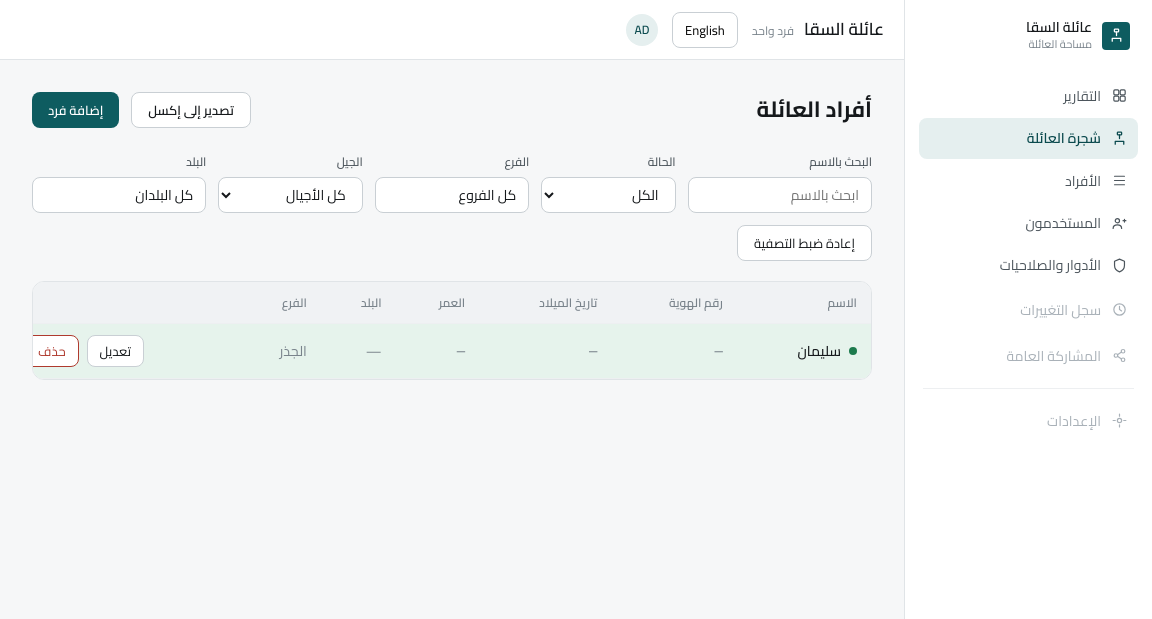
it: MembersPage › keeps the edit form open with the user input intact on a validation error
The width and height of the screenshot is (1152, 619).
Expected: the text "سليمان" is shown, [797, 340, 841, 363]
Click the button "تعديل": x=115, y=351 [87, 335, 144, 367]
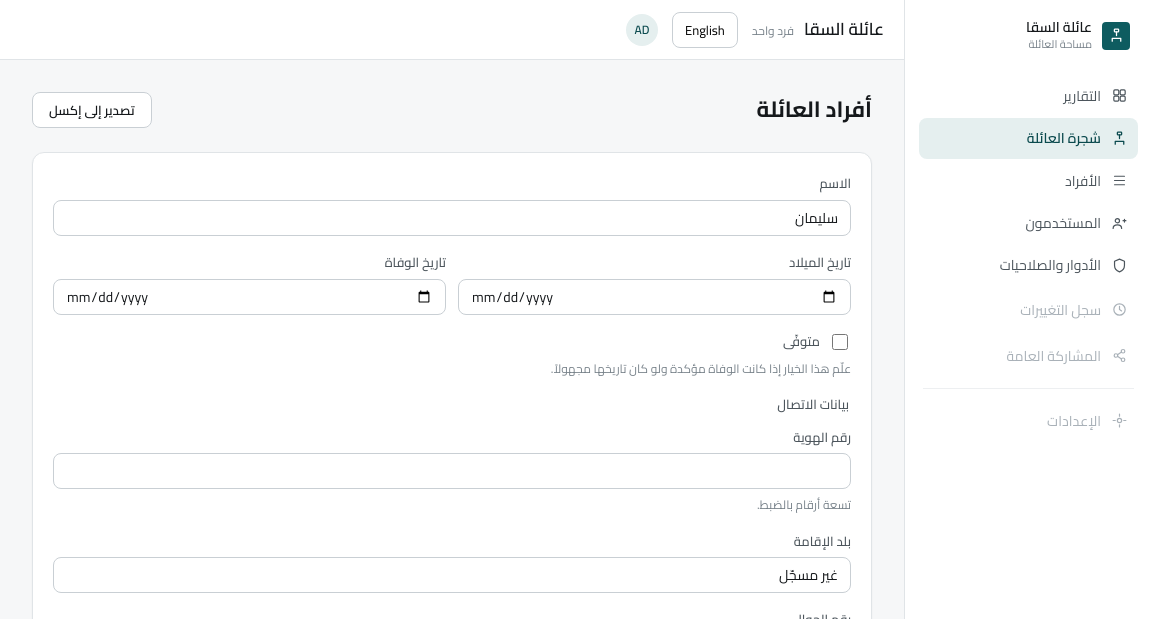
Replace the text in the field labelled "الاسم" with "سليمان أحمد": x=452, y=218 [53, 200, 851, 236]
(page scrolled)
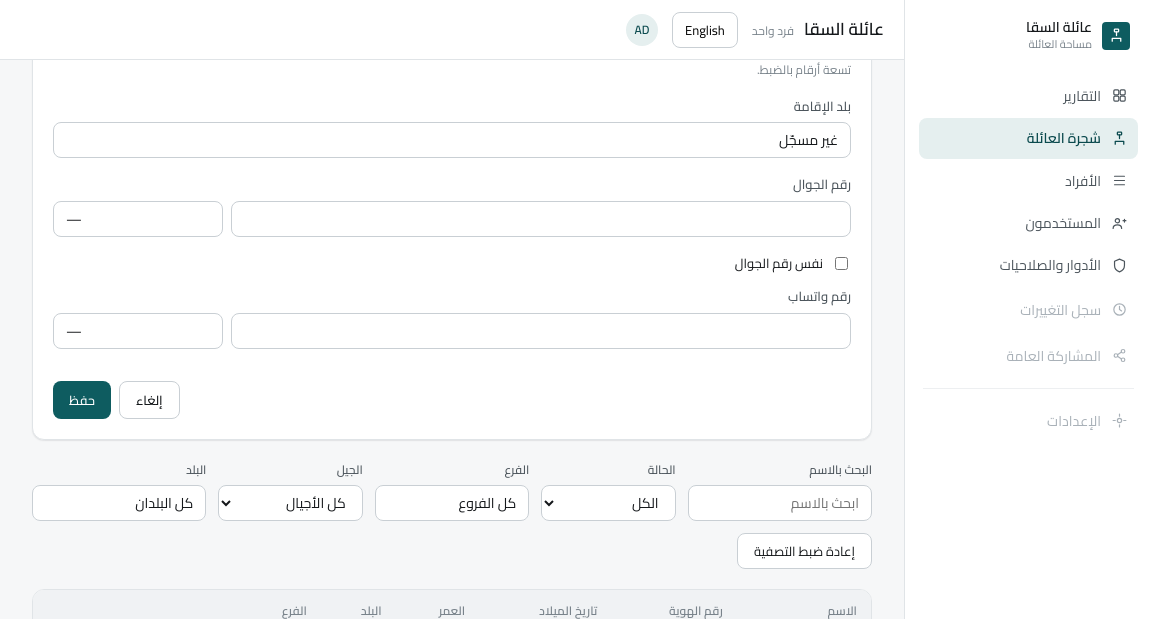
Click the button "حفظ": x=82, y=400 [53, 381, 111, 419]
(page scrolled)
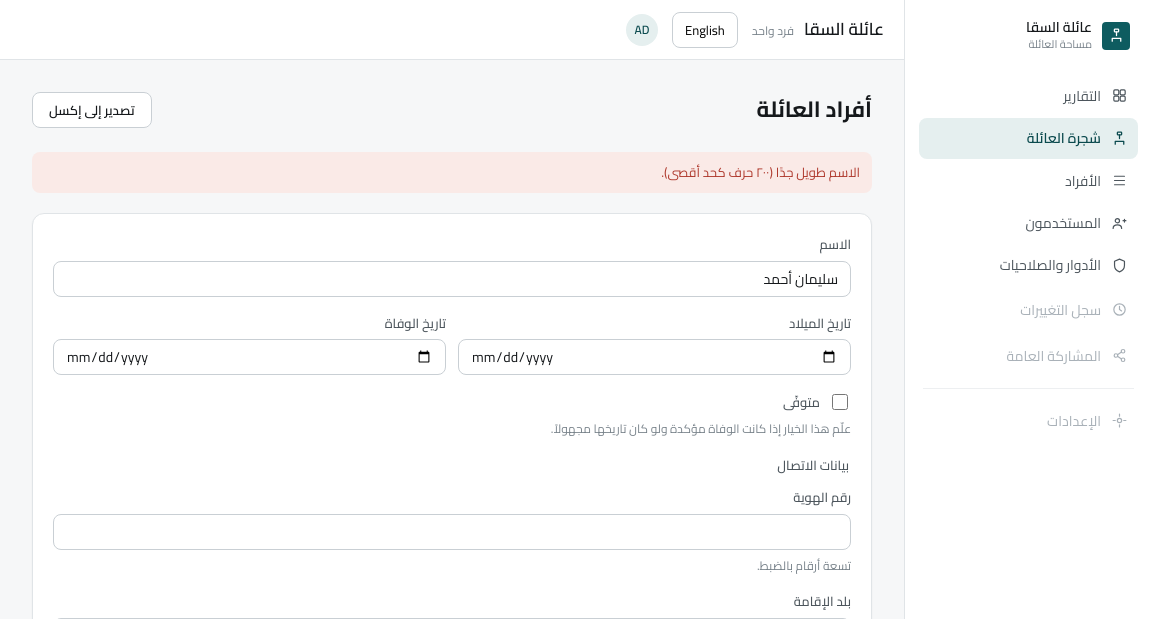
Expected: the text "الاسم طويل جدًا (٢٠٠ حرف كحد أقصى)." is shown, [32, 152, 872, 193]
